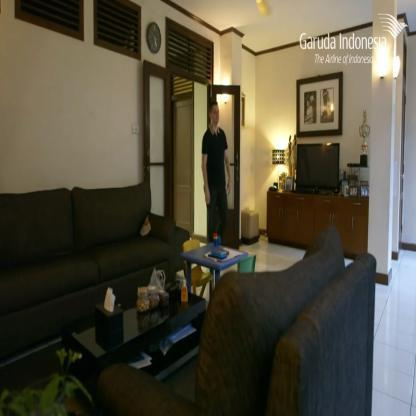sova: (94, 227, 386, 416), (1, 185, 191, 295)
tv: (295, 141, 343, 188)
